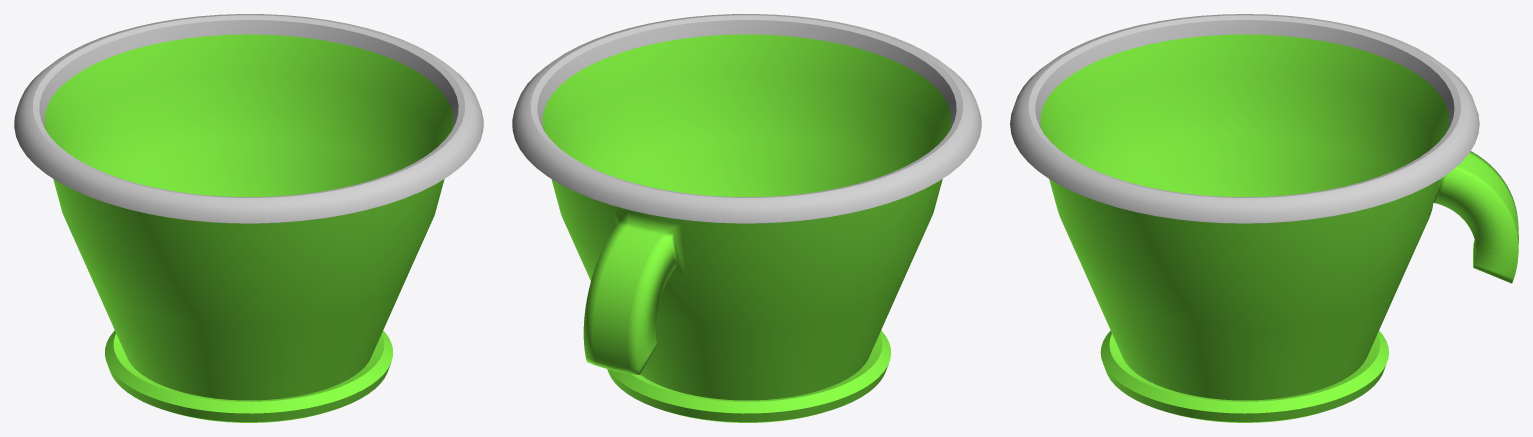
Rendered from cup6.obj.
3 renders of one model, left to right at view 1: azimuth 30°, elevation 25°; view 2: azimuth 150°, elevation 25°; view 3: azimuth 270°, elevation 25°, orthographic.
Parts seen in each view (by area): view 1: Cup6.001; view 2: Cup6.001; view 3: Cup6.001.
Part boxes in pixels (left/top/right/bottom): Cup6.001: left=14, top=14, right=483, bottom=422; Cup6.001: left=512, top=14, right=981, bottom=422; Cup6.001: left=1010, top=14, right=1518, bottom=422.
Size of the model in its own units: 1.43 by 0.8771 by 1.55.
